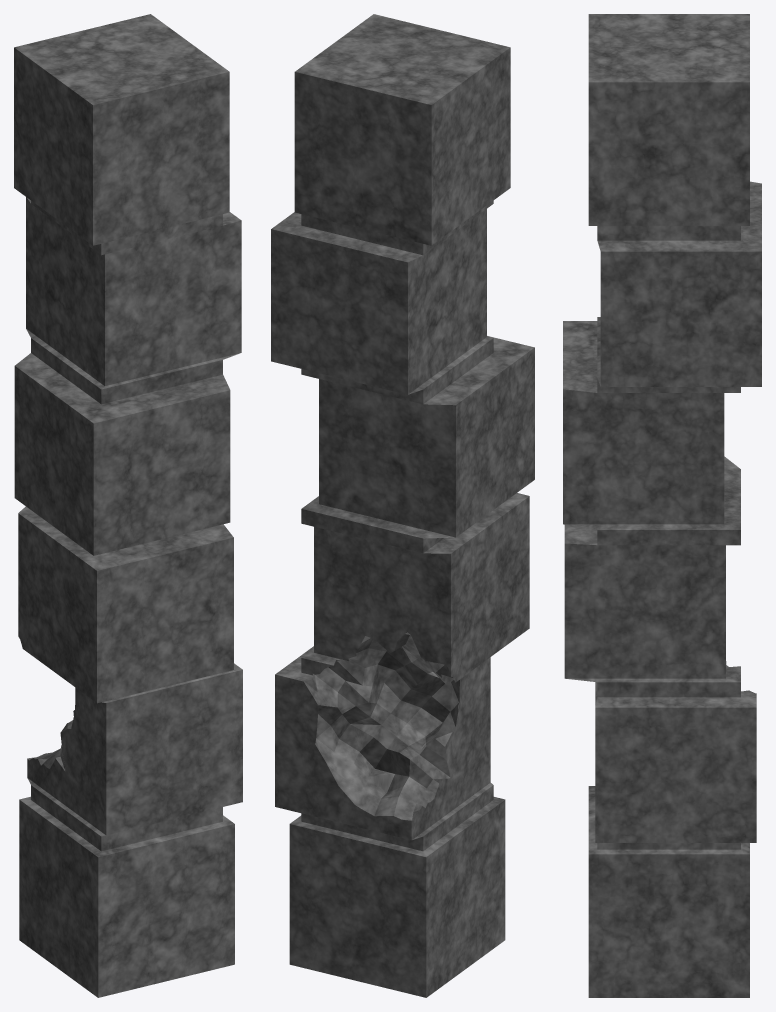
File: Pillar_BlackBox_Broken.fbx
3 views of the same model, side by side, from view 1: azimuth 30°, elevation 25°; view 2: azimuth 150°, elevation 25°; view 3: azimuth 270°, elevation 25° (orthographic). The views are drawn at different scales.
Parts seen in each view (by area): view 1: Pillar_Square_Black.001; view 2: Pillar_Square_Black.001; view 3: Pillar_Square_Black.001.
Part boxes in pixels (x1,y1,x2,y2): Pillar_Square_Black.001: (14,14,242,997); Pillar_Square_Black.001: (271,14,534,997); Pillar_Square_Black.001: (563,14,761,997).
Size of the model in its own units: 94.33 by 485 by 95.62.
Materials: 1 (1 with a texture image).
